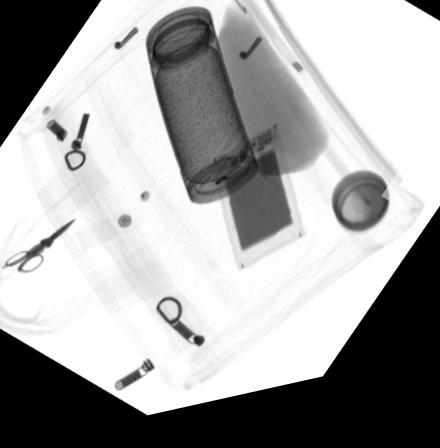Powerbank: (209, 137, 305, 283)
Scissors: (4, 219, 77, 277)
